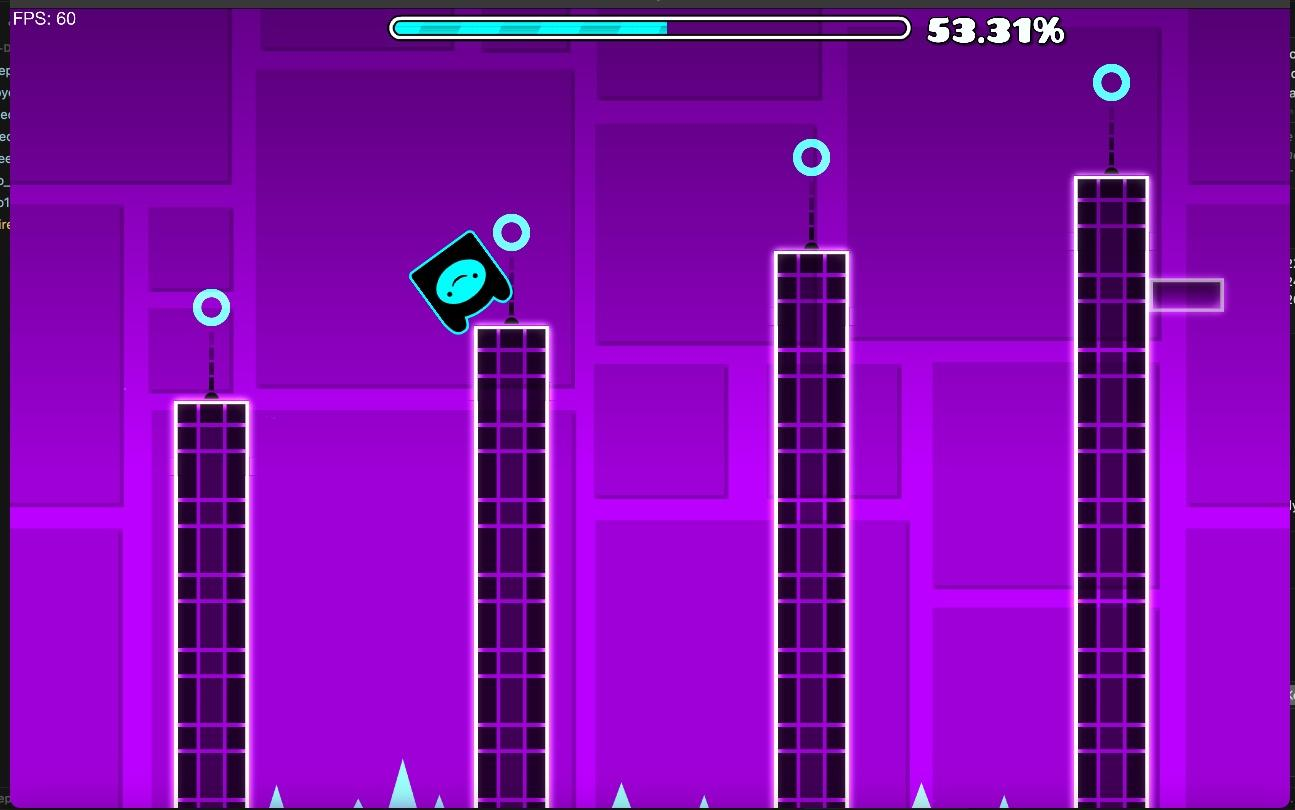block: (1074, 173, 1146, 809), (777, 254, 848, 810), (474, 324, 550, 810), (179, 401, 243, 810)
player: (411, 231, 511, 333)
spike: (389, 760, 416, 806), (913, 784, 931, 808), (613, 783, 630, 807), (268, 786, 282, 807), (699, 797, 709, 809), (1000, 795, 1008, 809)
